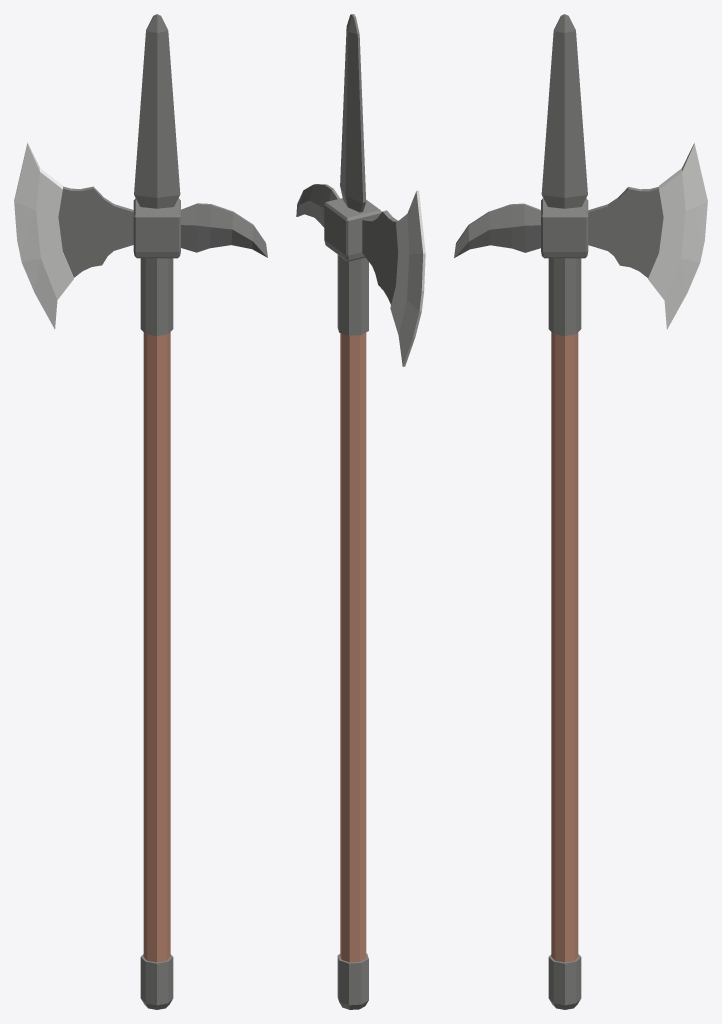
The model's file is ankers-low-poly-medieval-weapons--halberd.glb.
3 views of the same model, side by side, from view 1: azimuth 90°, elevation 25°; view 2: azimuth 210°, elevation 25°; view 3: azimuth 270°, elevation 25° (orthographic).
Parts seen in each view (by area): view 1: Halberd; view 2: Halberd; view 3: Halberd.
Boxes of the visible parts, bbox=[...] form: Halberd: bbox=[14, 14, 267, 1009]; Halberd: bbox=[296, 14, 425, 1009]; Halberd: bbox=[454, 14, 707, 1009].
Bounding box in the file's own units: 0.0952 × 2.5 × 0.5802.
